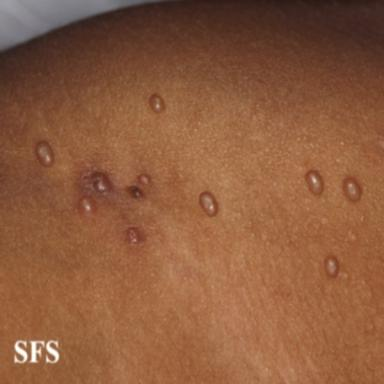Molluscum-Contagiosum: (199, 192, 217, 216), (91, 172, 112, 192), (343, 178, 361, 201), (305, 171, 323, 194), (36, 142, 53, 166), (126, 227, 145, 244), (79, 197, 96, 214), (149, 94, 164, 113), (325, 257, 339, 277), (137, 174, 151, 185)
